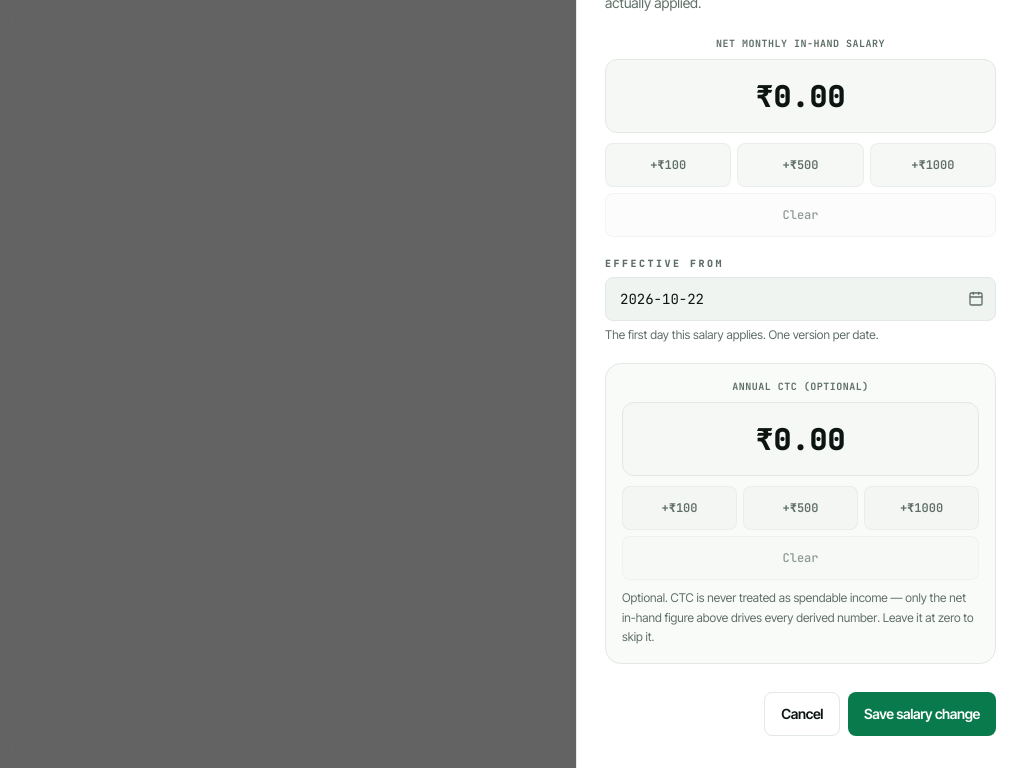
Scenario: AddSalaryChangeSheet › blocks an empty salary and moves focus to it
(page scrolled)
What coordinates should you click on to do the following:
click the button "Save salary change"
I would click on:
 (922, 714)
Its box is [848, 692, 996, 736].
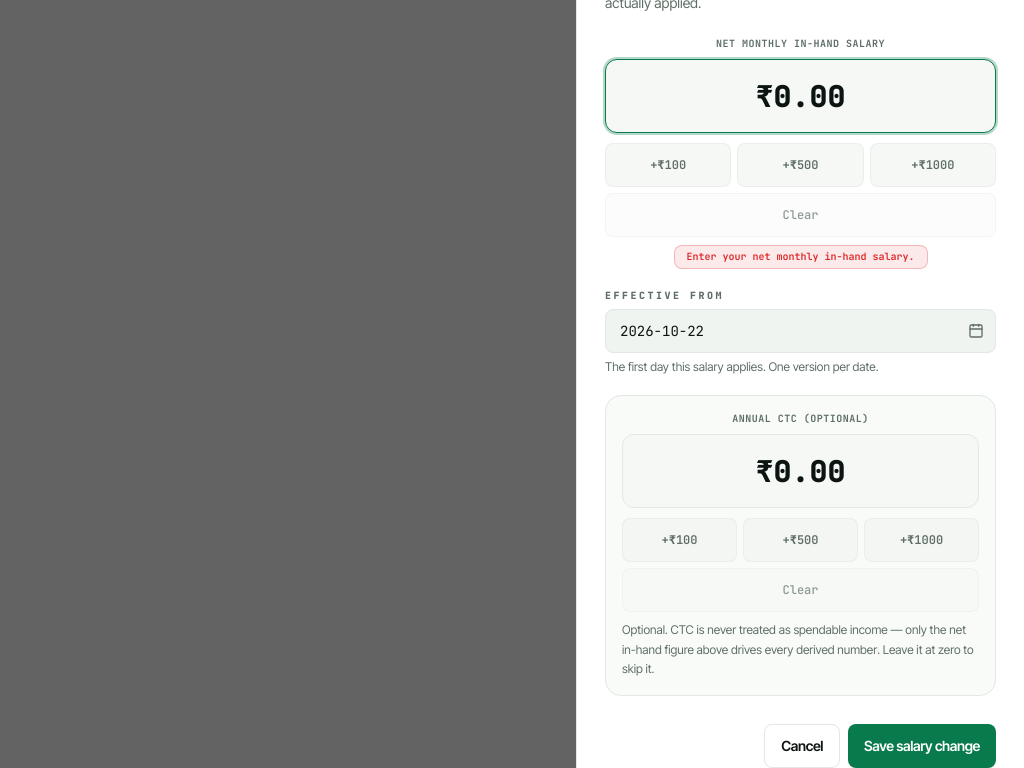
Check: the text "Enter your net monthly in-hand salary." is shown, box [674, 245, 928, 269]
